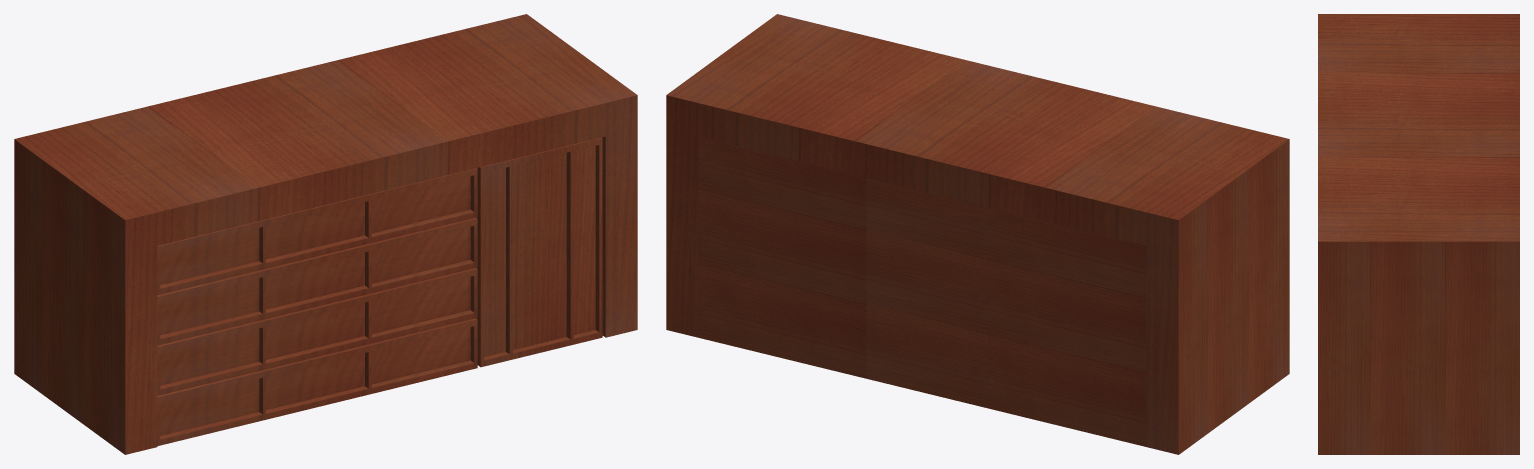
File: comoCiliegio.glb
The picture shows the model from 3 angles, left to right: view 1: azimuth 30°, elevation 25°; view 2: azimuth 150°, elevation 25°; view 3: azimuth 270°, elevation 25°; orthographic projection. The views are drawn at different scales.
Parts seen in each view (by area): view 1: comoCiliegio; view 2: comoCiliegio; view 3: comoCiliegio.
Part boxes in pixels (bbox=[...]): comoCiliegio: bbox=[14, 14, 637, 454]; comoCiliegio: bbox=[666, 14, 1289, 454]; comoCiliegio: bbox=[1318, 14, 1519, 454].
Size of the model in its own units: 1.6 by 0.7 by 0.6.
1 material, 1 textured.
